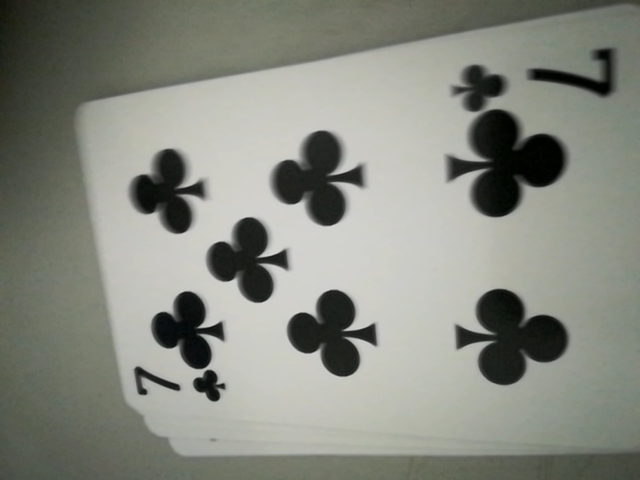mh 7: (444, 33, 637, 115), (125, 362, 223, 413)
